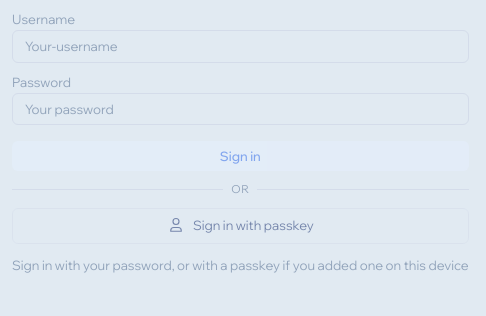
Scenario: LoginForm › оставляет вход по ключу и подсказывает, если ключа нет
Check: the button "Sign in with passkey" is disabled, box left=12, top=208, right=469, bottom=244
Type "alice" into the field labelled "Username" at point(240, 46), box left=12, top=30, right=469, bottom=63
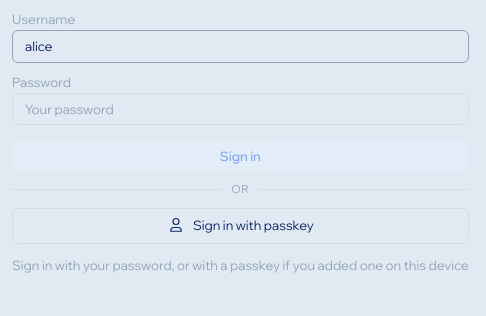
Click the button "Sign in with passkey" at point(240, 226), box left=12, top=208, right=469, bottom=244
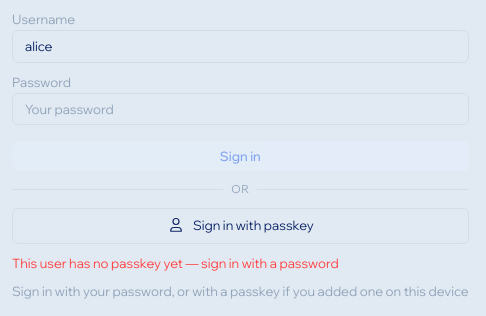
Check: the text "This user has no passkey yet — sign in with a password" is shown, box left=12, top=255, right=339, bottom=271
